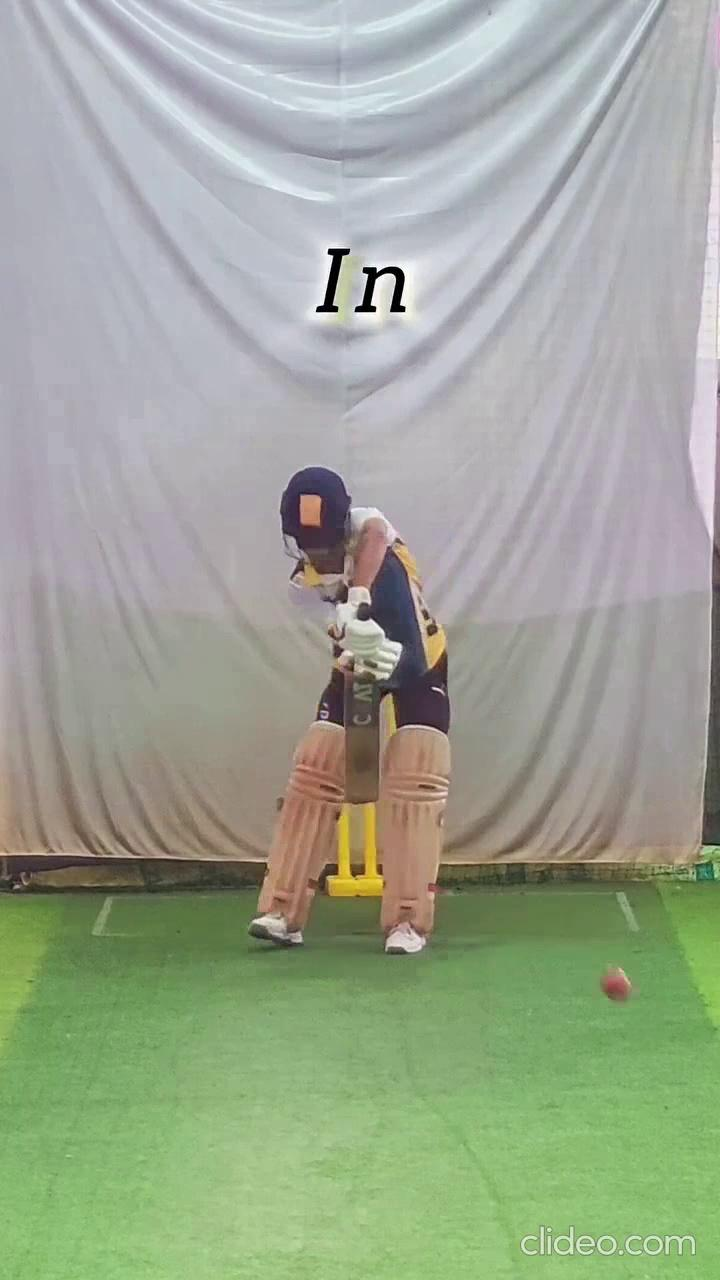bat: (344, 671, 380, 806)
